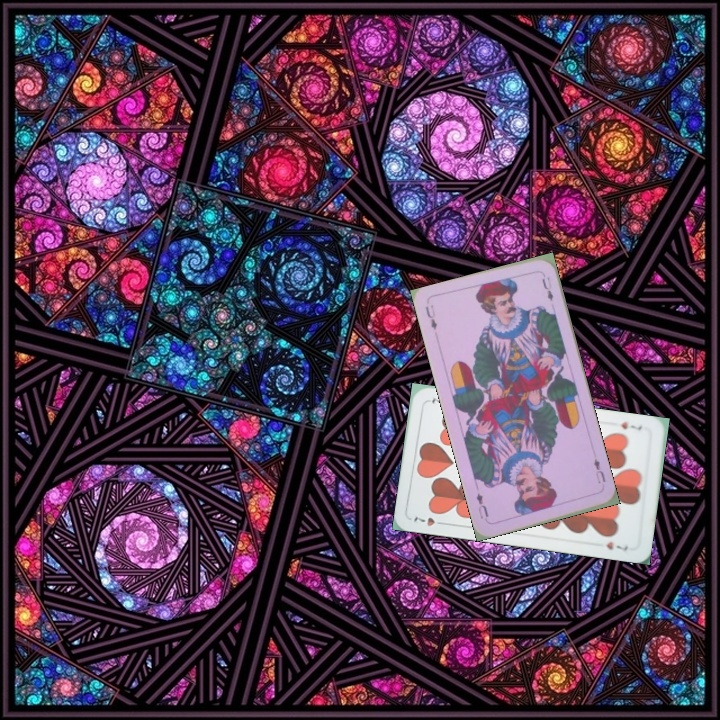EU: (589, 454, 608, 486), (421, 301, 440, 332)
H7: (410, 512, 449, 529), (617, 418, 644, 432)
